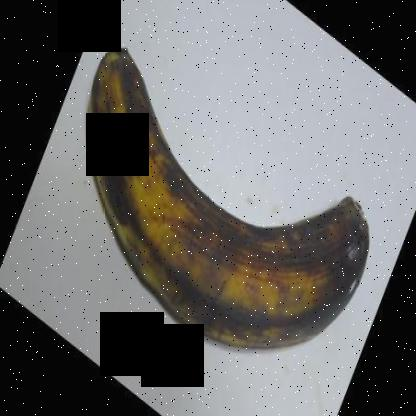overripe: (78, 35, 398, 409)
rotten: (293, 189, 391, 330)
